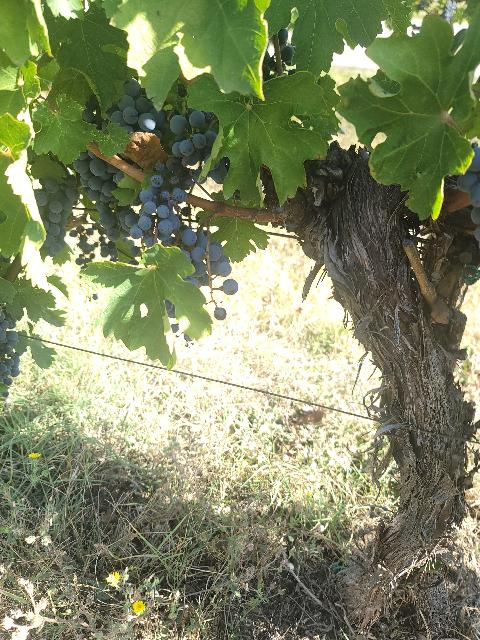grapes: (72, 150, 144, 261), (180, 226, 239, 320), (130, 155, 186, 248), (35, 175, 80, 258)
